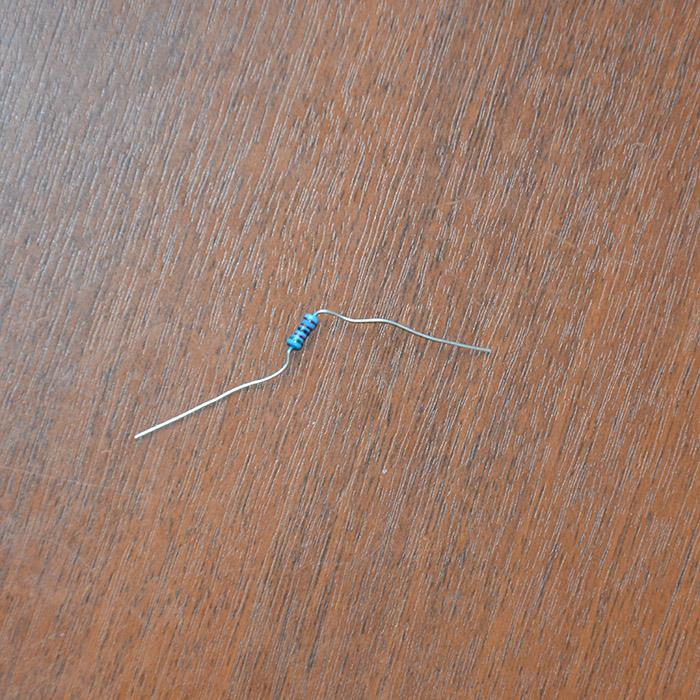resistor: (286, 311, 320, 350)
